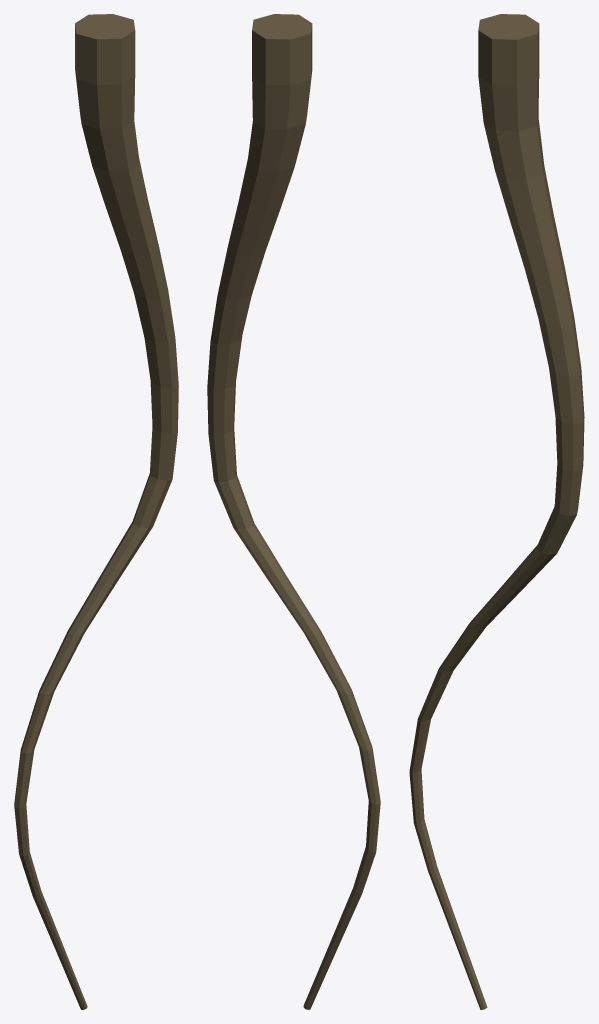
3 views of the same model, side by side, from view 1: azimuth 30°, elevation 25°; view 2: azimuth 150°, elevation 25°; view 3: azimuth 330°, elevation 25° (orthographic).
Parts seen in each view (by area): view 1: Root.2.10; view 2: Root.2.10; view 3: Root.2.10.
Part boxes in pixels (left/top/right/bottom): Root.2.10: left=14, top=14, right=178, bottom=1009; Root.2.10: left=207, top=14, right=380, bottom=1009; Root.2.10: left=409, top=14, right=584, bottom=1009.
Size of the model in its own units: 76.85 by 427 by 26.25.
